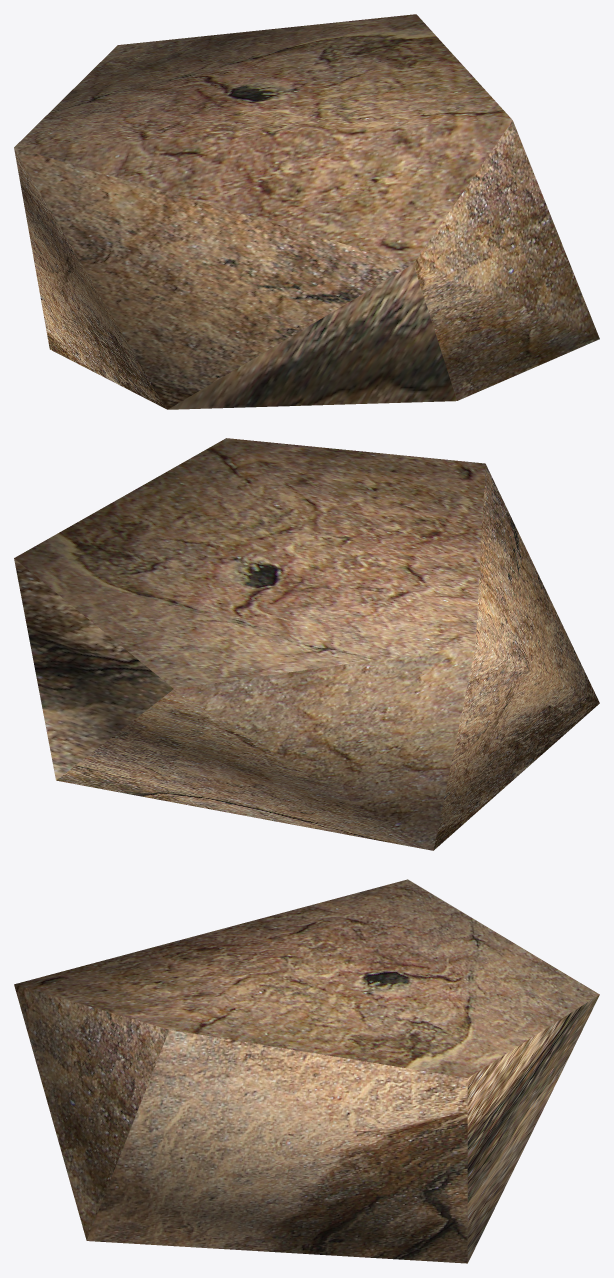
The model's file is Rock1_10.obj.
The picture shows the model from 3 angles, top to bottom: view 1: azimuth 30°, elevation 25°; view 2: azimuth 150°, elevation 25°; view 3: azimuth 270°, elevation 25°; orthographic projection. The views are drawn at different scales.
Visible parts, largest first — view 1: Cube; view 2: Cube; view 3: Cube.
Boxes of the visible parts, box(x1,y1,x2,y2) form: Cube: box(14, 14, 599, 409); Cube: box(14, 438, 599, 850); Cube: box(14, 879, 599, 1263).
Size of the model in its own units: 2.96 by 1.75 by 3.61.
